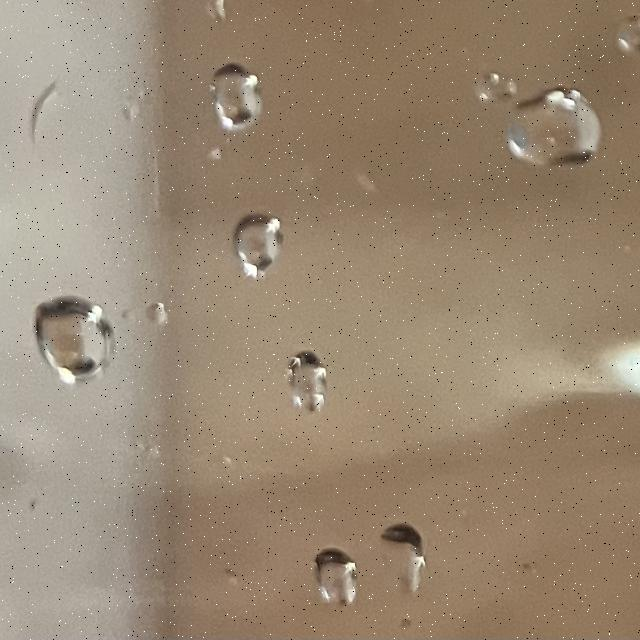raindrop: (492, 84, 610, 172), (30, 291, 113, 392), (184, 55, 284, 131), (230, 205, 288, 289), (380, 520, 429, 605), (185, 0, 259, 44), (316, 540, 356, 617), (464, 60, 522, 110), (278, 362, 336, 412), (605, 28, 640, 61), (142, 295, 171, 329)
